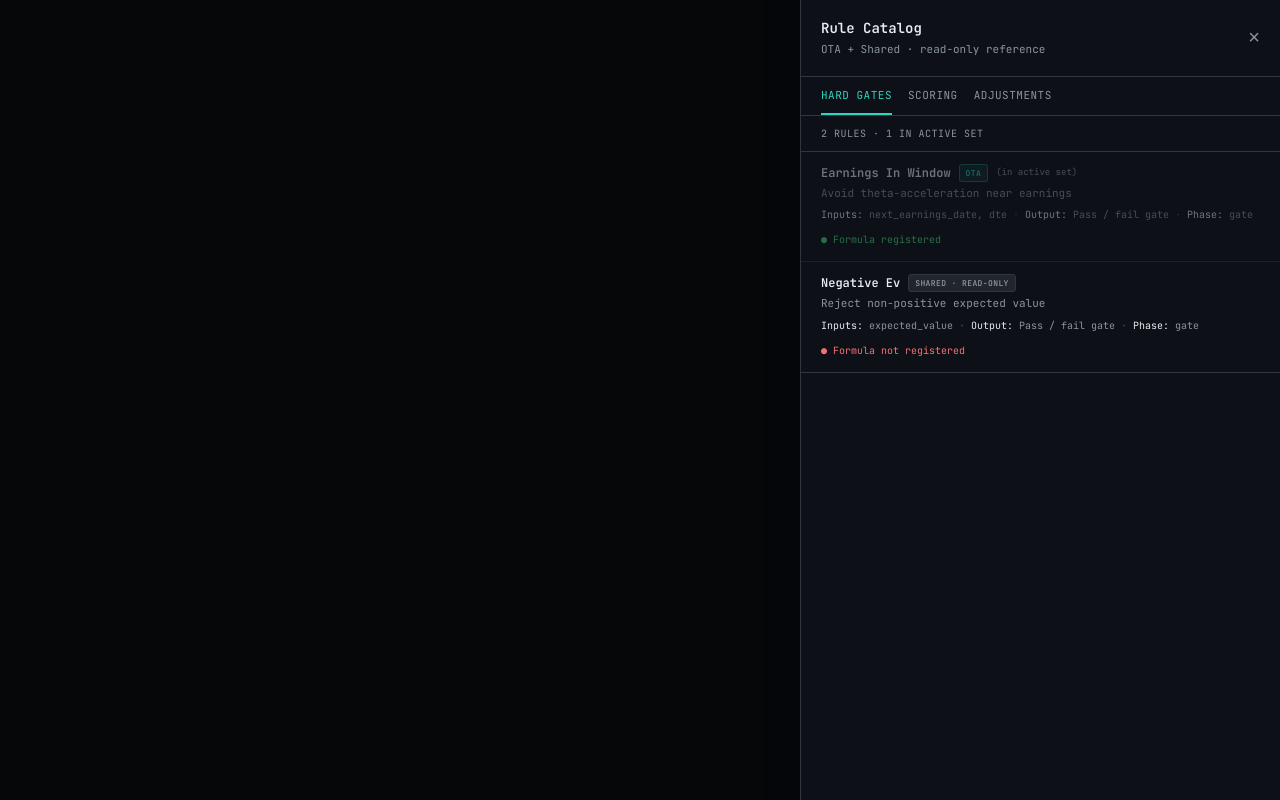
Test: RuleCatalogDrawer (OTA-789) › narrows the list by phase tab
Expected: the text "Earnings In Window" is shown, x1=821 y1=164 x2=951 y2=182
Note: Scoring tab → scoring rule visible, gate rules gone.
Click the tab "Scoring".
click(933, 94)  # box x1=908 y1=88 x2=958 y2=102
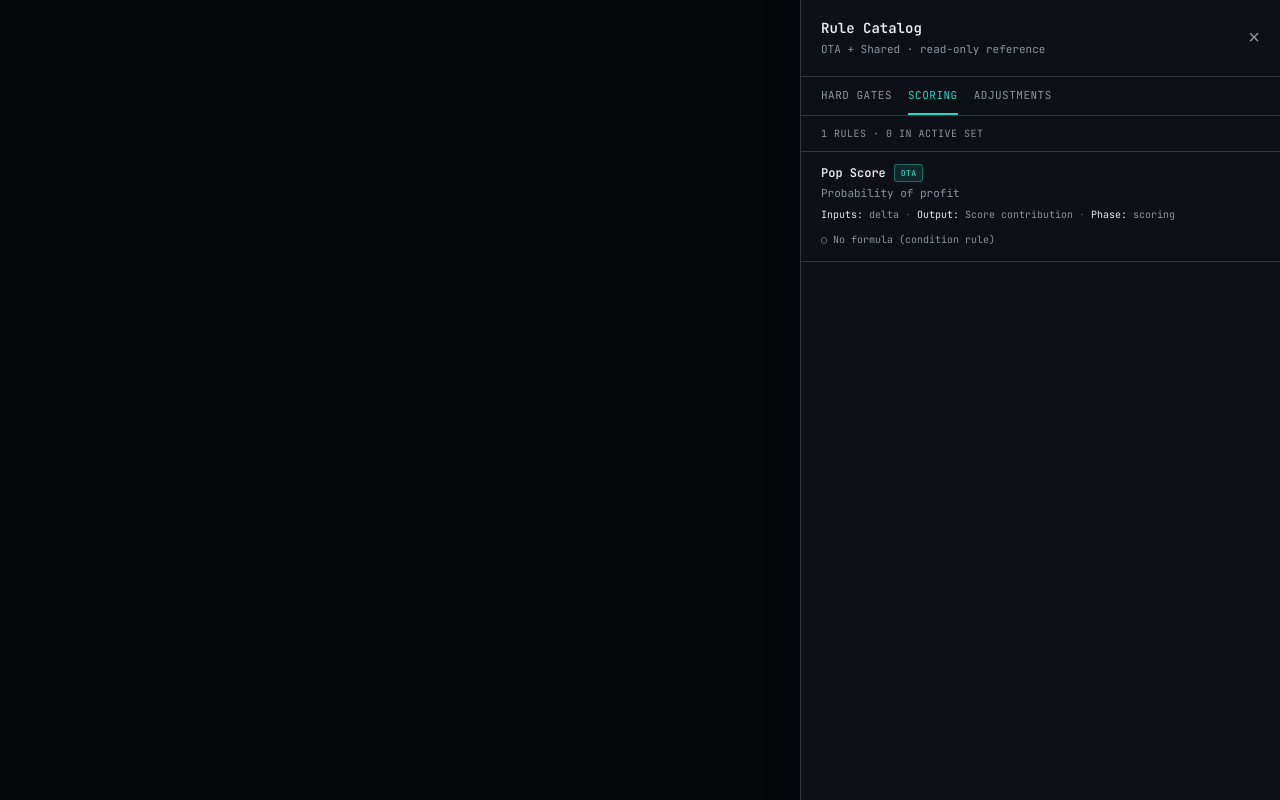
Now the text "Pop Score" is shown, box x1=821 y1=164 x2=886 y2=182
Now the text "Earnings In Window" is gone
Now the text "○ No formula (condition rule)" is shown, box x1=821 y1=233 x2=995 y2=246
